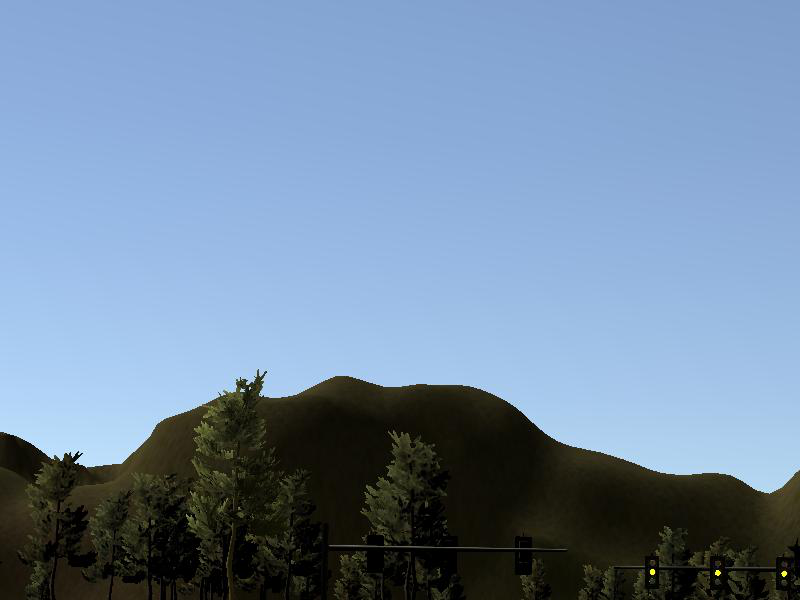yellow: (711, 554, 726, 591), (644, 555, 660, 589), (776, 557, 790, 590)
